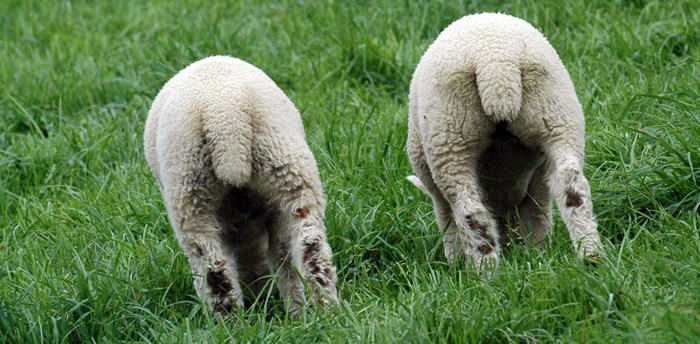sheep: (413, 1, 604, 294), (148, 54, 347, 327)
